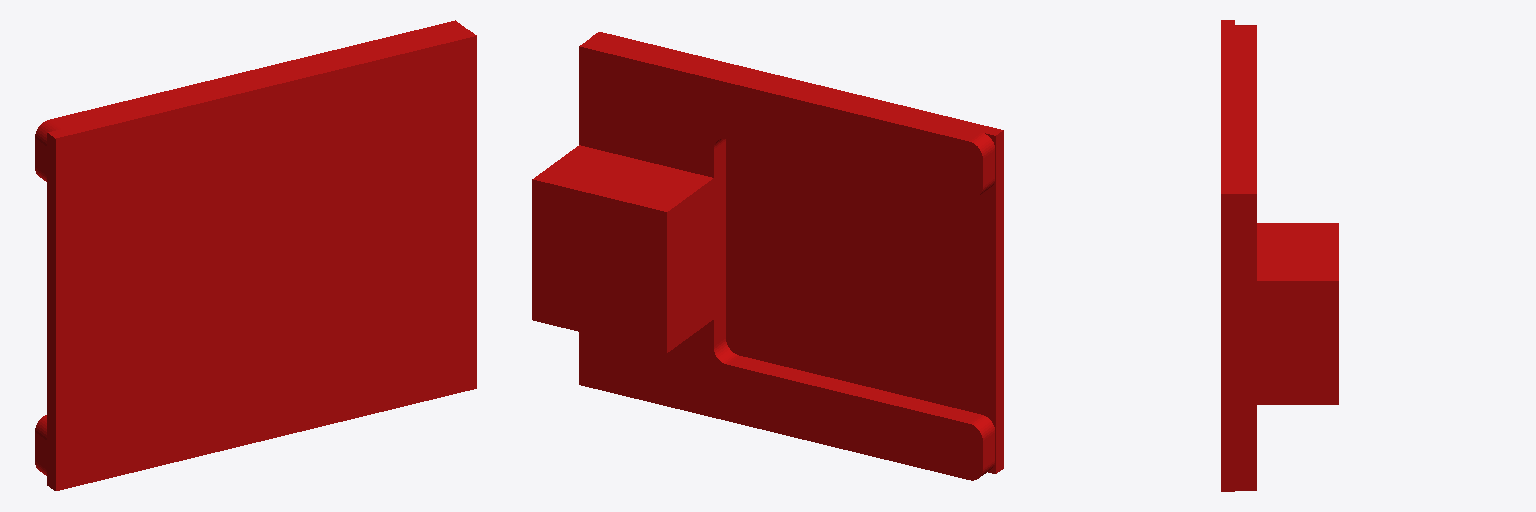
robot.urdf — custom_object:
<?xml version="1.0"?>
<robot name="custom_object">
    <link name="base_link">
        <visual>
            <geometry>
                <mesh filename="meshes/Part2.DAE" scale="0.001 0.001 0.001"/>
            </geometry>
            <material name="black">
                <color rgba="0.8 0.1 0.1 1"/>
            </material>
        </visual>
        <collision>
            <geometry>
                <mesh filename="meshes/Part2.DAE" scale="0.001 0.001 0.001"/>
            </geometry>
        </collision>
        <inertial>
            <mass value="1.0"/>
            <origin xyz="0 0 0" rpy="0 0 0"/>
            <inertia ixx="0.1" ixy="0.0" ixz="0.0" iyy="0.1" iyz="0.0" izz="0.1"/>
        </inertial>
    </link>
</robot>

--- Facts derived from the render (not from the file) ---
Views: 3 orthographic renders of the robot side by side, from view 1: azimuth 30°, elevation 25°; view 2: azimuth 150°, elevation 25°; view 3: azimuth 270°, elevation 25°.
Robot: custom_object — 1 links, 0 joints (none); root link base_link; default pose: all joints at 0.
Links seen in each view (by area): view 1: base_link; view 2: base_link; view 3: base_link.
Link boxes in pixels (x1=…): base_link: x1=35, y1=20, x2=476, y2=490; base_link: x1=532, y1=32, x2=1003, y2=480; base_link: x1=1221, y1=20, x2=1338, y2=491.
Bounding box of the posed robot: 0.15 × 0.043 × 0.12 m (x, y, z).
1 mesh visuals loaded from 1 distinct referenced files (1 Collada DAE).